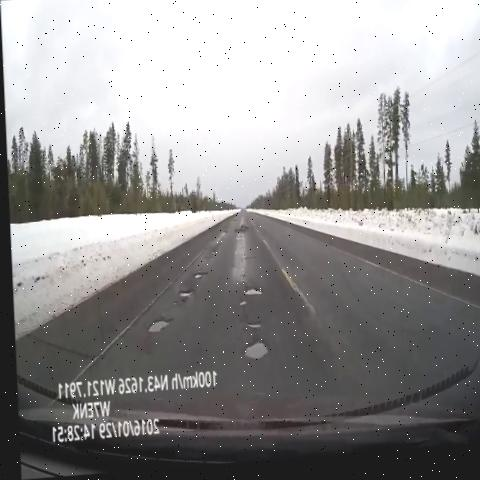pothole: (241, 319, 268, 373), (232, 283, 265, 317), (140, 318, 174, 341), (169, 287, 192, 315), (186, 270, 208, 292), (231, 225, 252, 247), (204, 249, 219, 267)
